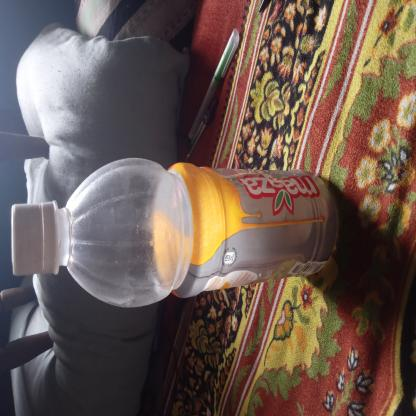bottle: (78, 11, 199, 416)
